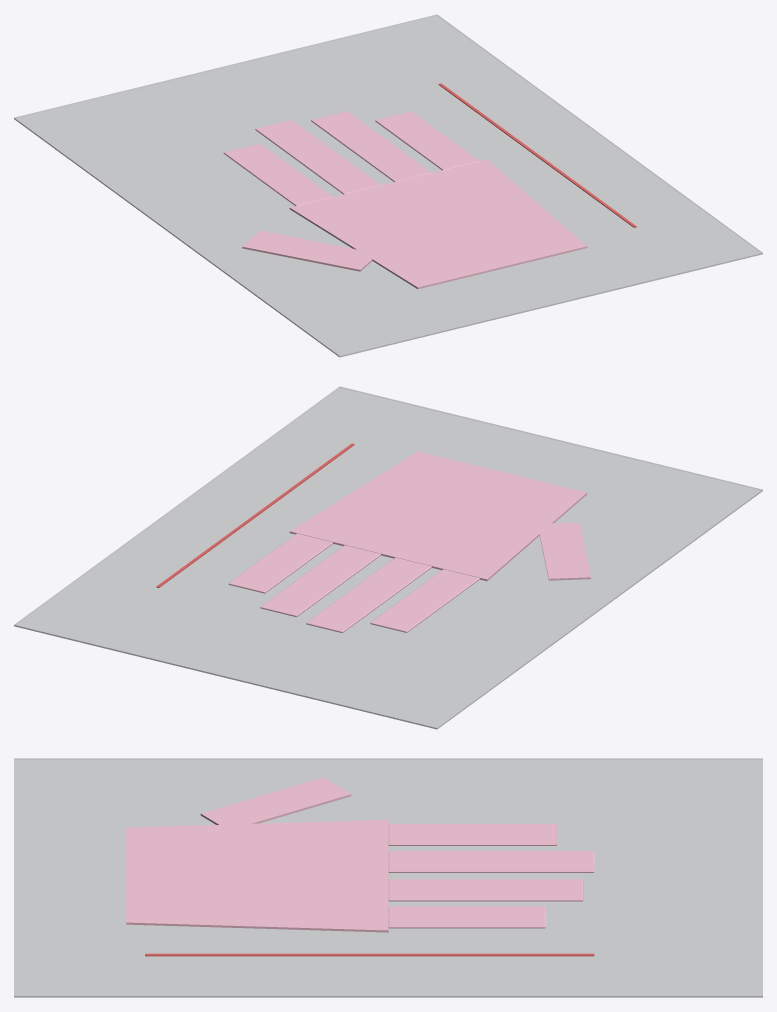
Rendered from hand_tracing.glb.
3 renders of one model, top to bottom at view 1: azimuth 30°, elevation 25°; view 2: azimuth 150°, elevation 25°; view 3: azimuth 270°, elevation 25°, orthographic. The views are drawn at different scales.
Visible parts, largest first — view 1: tracing_sheet, hand_palm, hand_finger1, hand_finger2, hand_finger0, hand_finger3, hand_thumb, hand_length_line; view 2: tracing_sheet, hand_palm, hand_finger1, hand_finger2, hand_finger0, hand_finger3, hand_thumb, hand_length_line; view 3: tracing_sheet, hand_palm, hand_finger1, hand_finger2, hand_finger0, hand_finger3, hand_thumb, hand_length_line.
Boxes of the visible parts, x1,y1,x2,y2 form: tracing_sheet: (14,14,762,357); hand_palm: (289,159,587,289); hand_finger1: (255,120,380,194); hand_finger2: (311,111,431,181); hand_finger0: (223,143,332,205); hand_finger3: (375,111,479,170); hand_thumb: (242,230,372,271); hand_length_line: (438,83,636,227); tracing_sheet: (14,386,762,729); hand_palm: (289,451,587,581); hand_finger1: (306,557,431,632); hand_finger2: (260,545,381,616); hand_finger0: (370,569,479,632); hand_finger3: (228,533,332,593); hand_thumb: (537,522,590,580); hand_length_line: (156,443,354,587); tracing_sheet: (14,758,762,997); hand_palm: (126,819,388,932); hand_finger1: (388,851,594,872); hand_finger2: (388,879,583,901); hand_finger0: (388,824,556,845); hand_finger3: (388,906,545,928); hand_thumb: (200,777,351,830); hand_length_line: (145,953,594,956).
Size of the model in its own units: 0.15 by 0.0011 by 0.2.
